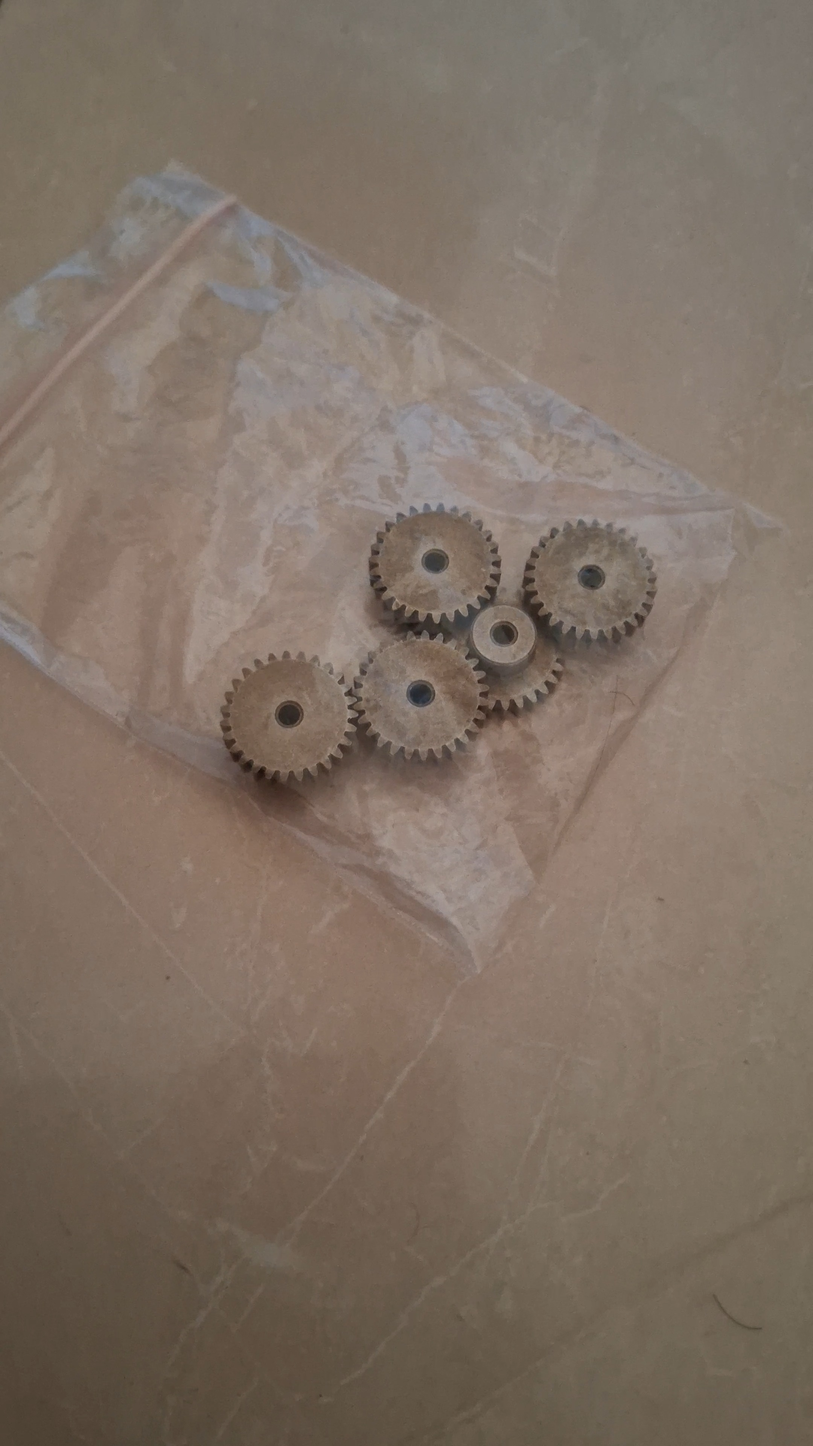spur gear: (221, 652, 356, 782), (355, 633, 487, 761), (370, 504, 501, 626), (524, 519, 656, 640), (469, 602, 562, 712)
